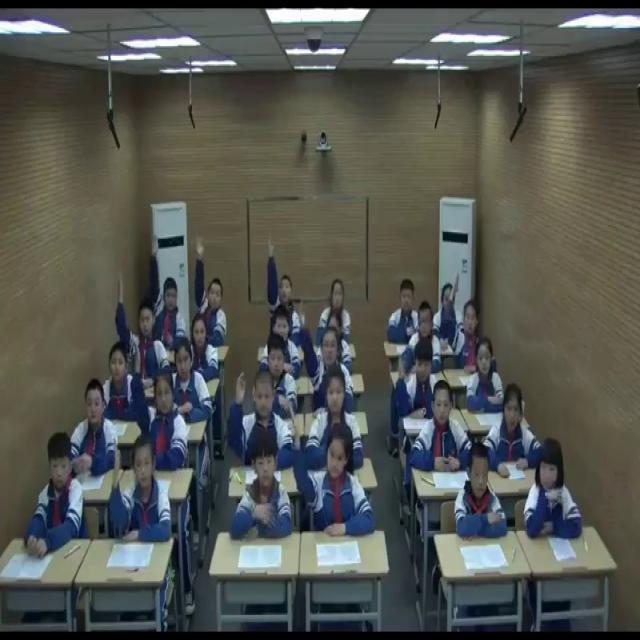focused: (231, 429, 294, 544), (28, 432, 85, 556), (306, 366, 365, 470), (408, 384, 475, 474), (520, 436, 580, 535), (487, 383, 546, 477), (452, 446, 507, 540), (68, 376, 114, 482), (168, 334, 210, 429), (465, 334, 507, 419), (263, 333, 301, 418), (405, 296, 442, 374), (262, 309, 303, 376), (386, 278, 424, 346), (102, 339, 134, 418), (319, 278, 351, 348), (188, 313, 219, 380)
raising_hand: (285, 397, 374, 542), (128, 336, 189, 470), (226, 362, 295, 472), (107, 435, 172, 545), (296, 300, 356, 413), (115, 273, 172, 384), (390, 333, 448, 423), (192, 233, 231, 346), (149, 234, 185, 354), (446, 270, 486, 375), (265, 233, 302, 346)
